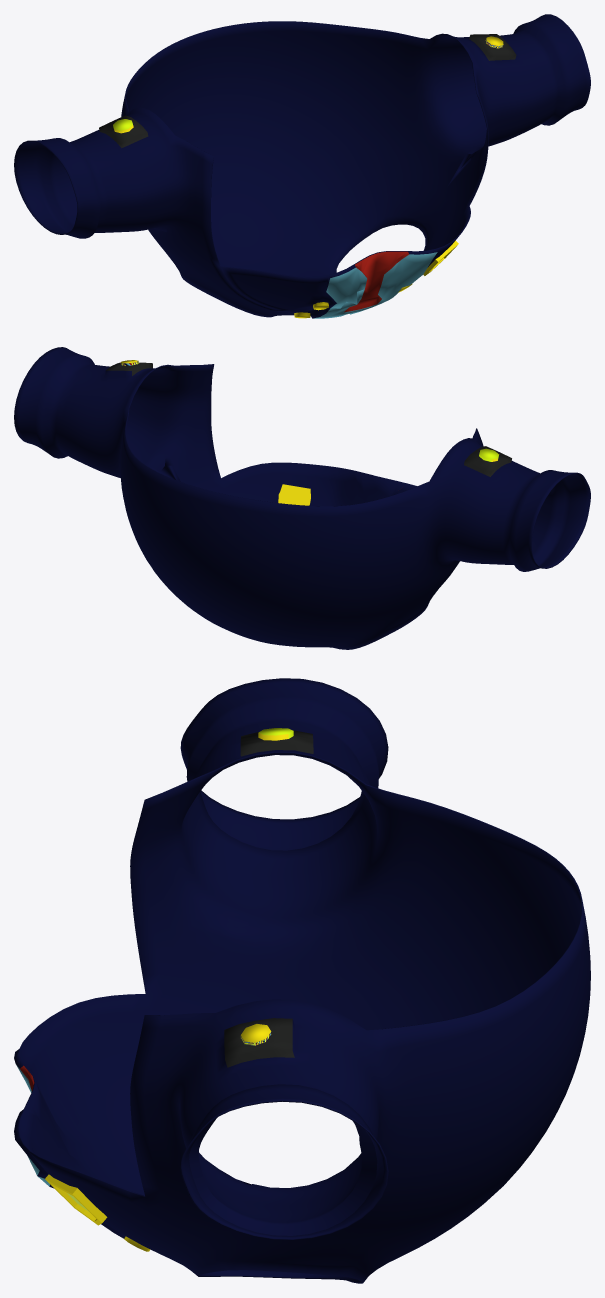
Rendered from polis_suit.fbx.
3 renders of one model, top to bottom at view 1: azimuth 30°, elevation 25°; view 2: azimuth 150°, elevation 25°; view 3: azimuth 270°, elevation 25°, orthographic. The views are drawn at different scales.
Parts seen in each view (by area): view 1: Roundcube.001; view 2: Roundcube.001; view 3: Roundcube.001.
Part boxes in pixels (left/top/right/bottom): Roundcube.001: left=14, top=14, right=590, bottom=318; Roundcube.001: left=14, top=347, right=590, bottom=649; Roundcube.001: left=14, top=678, right=590, bottom=1283.
Bounding box in the file's own units: 332 × 136 × 191.
Materials: 1 (1 with a texture image).
